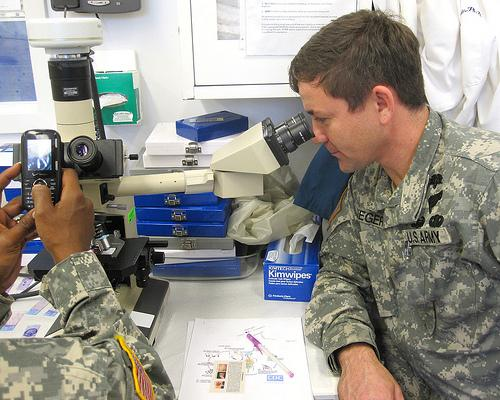person: (289, 9, 500, 399)
